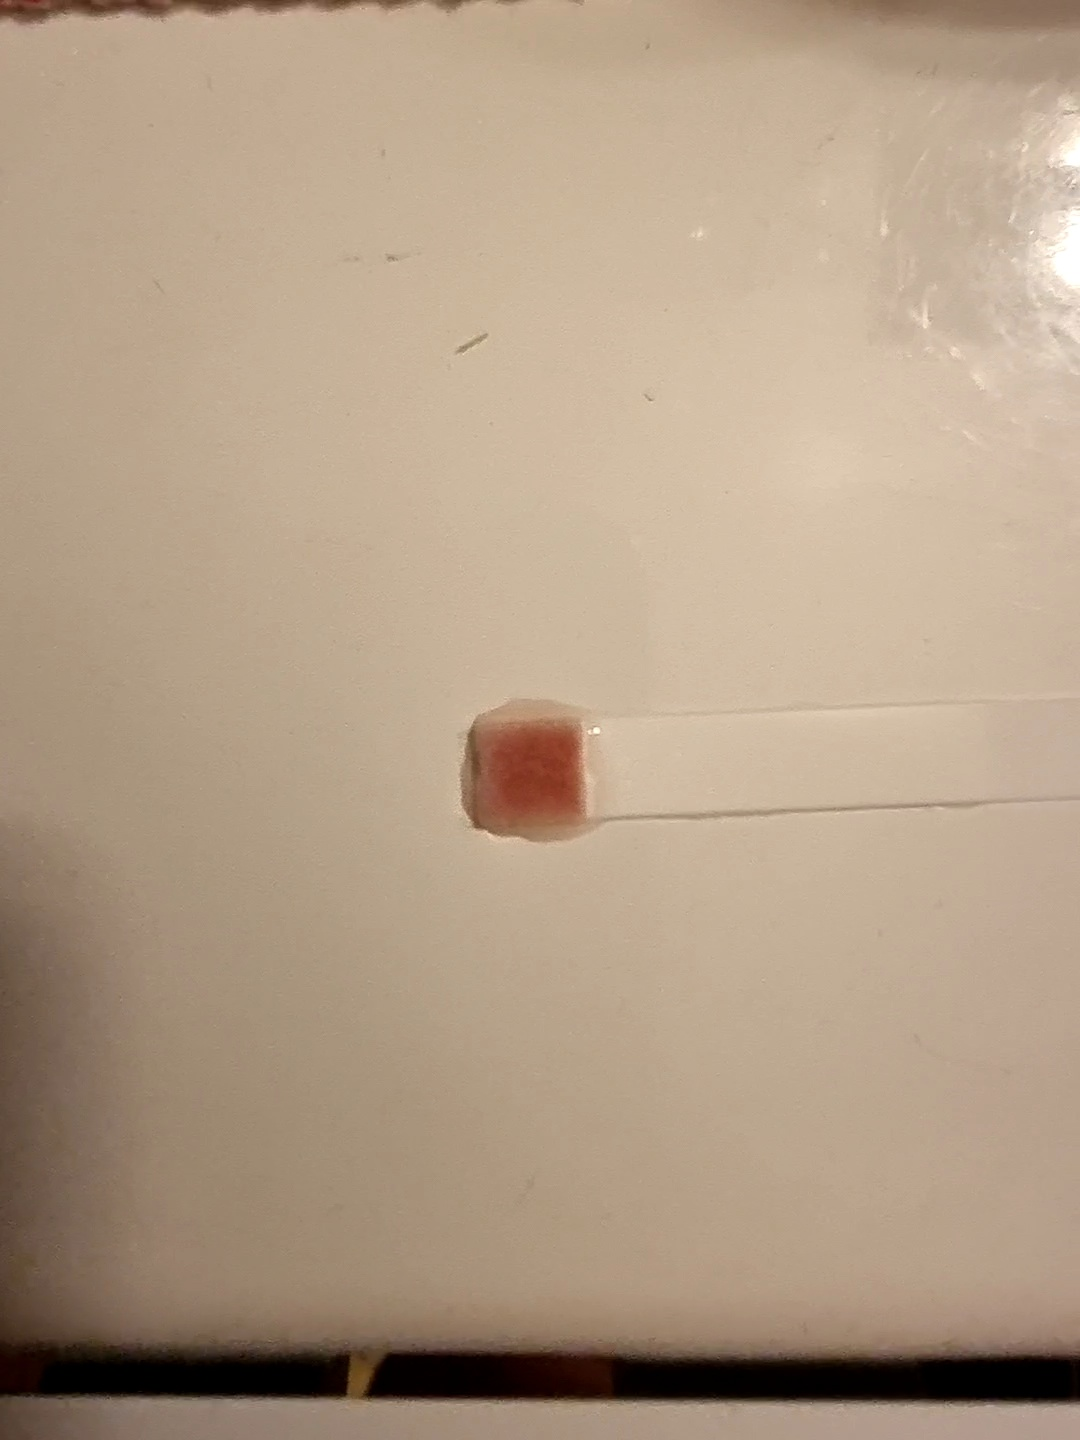keto-tip: (465, 714, 598, 839)
